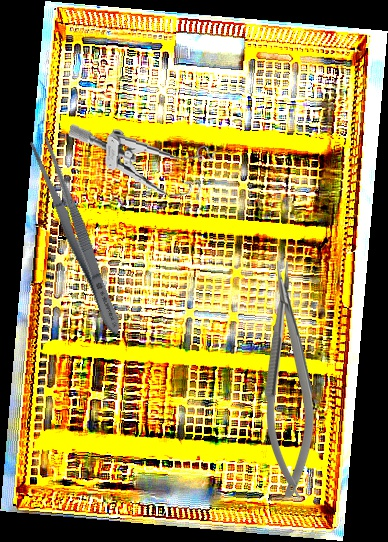Dressing Forceps: (25, 132, 129, 340)
Needle Holder: (265, 261, 314, 498)
Speculum: (64, 123, 218, 203)
